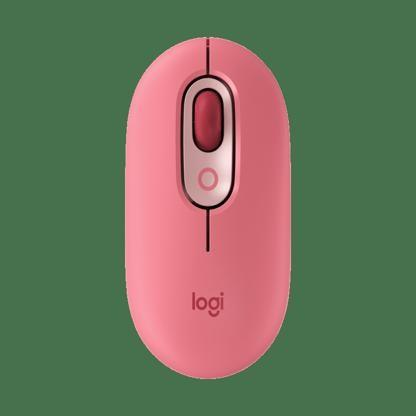not trash: (120, 32, 292, 382)
